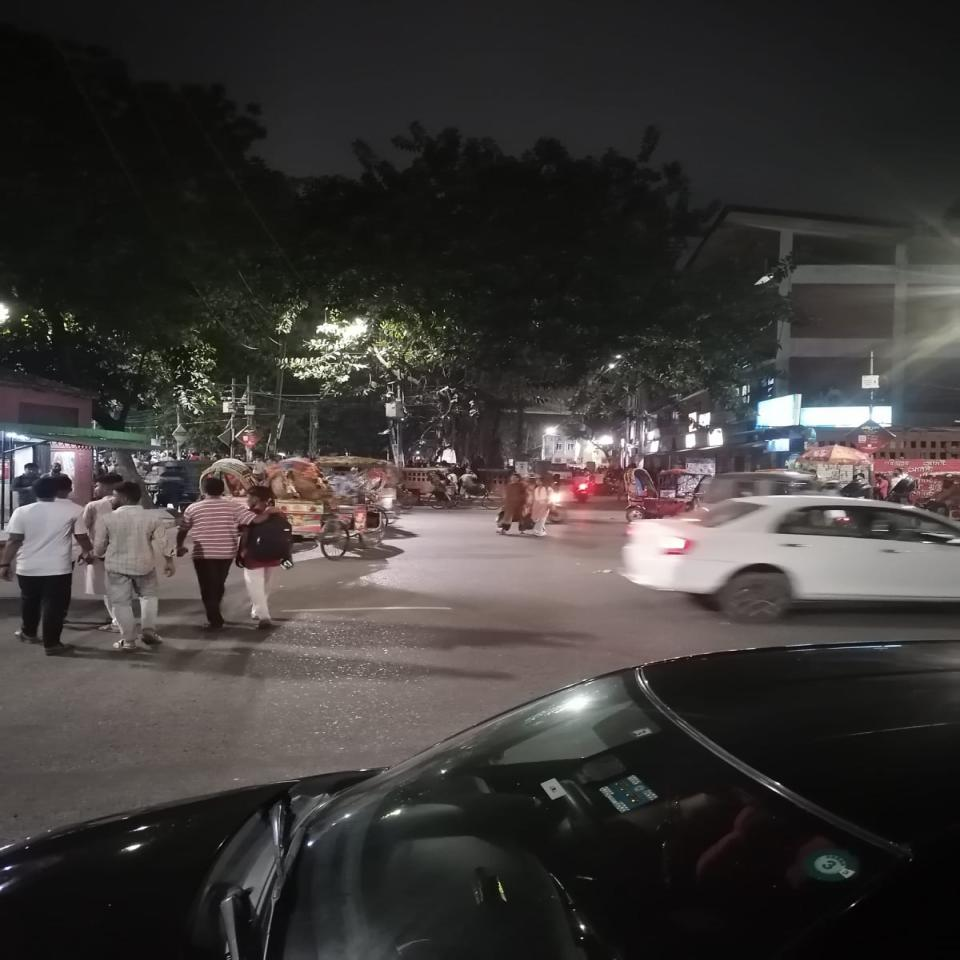person: (0, 479, 91, 659), (88, 481, 179, 654), (176, 478, 240, 632), (243, 486, 287, 623), (90, 468, 112, 594), (498, 473, 528, 535), (529, 479, 560, 538)
